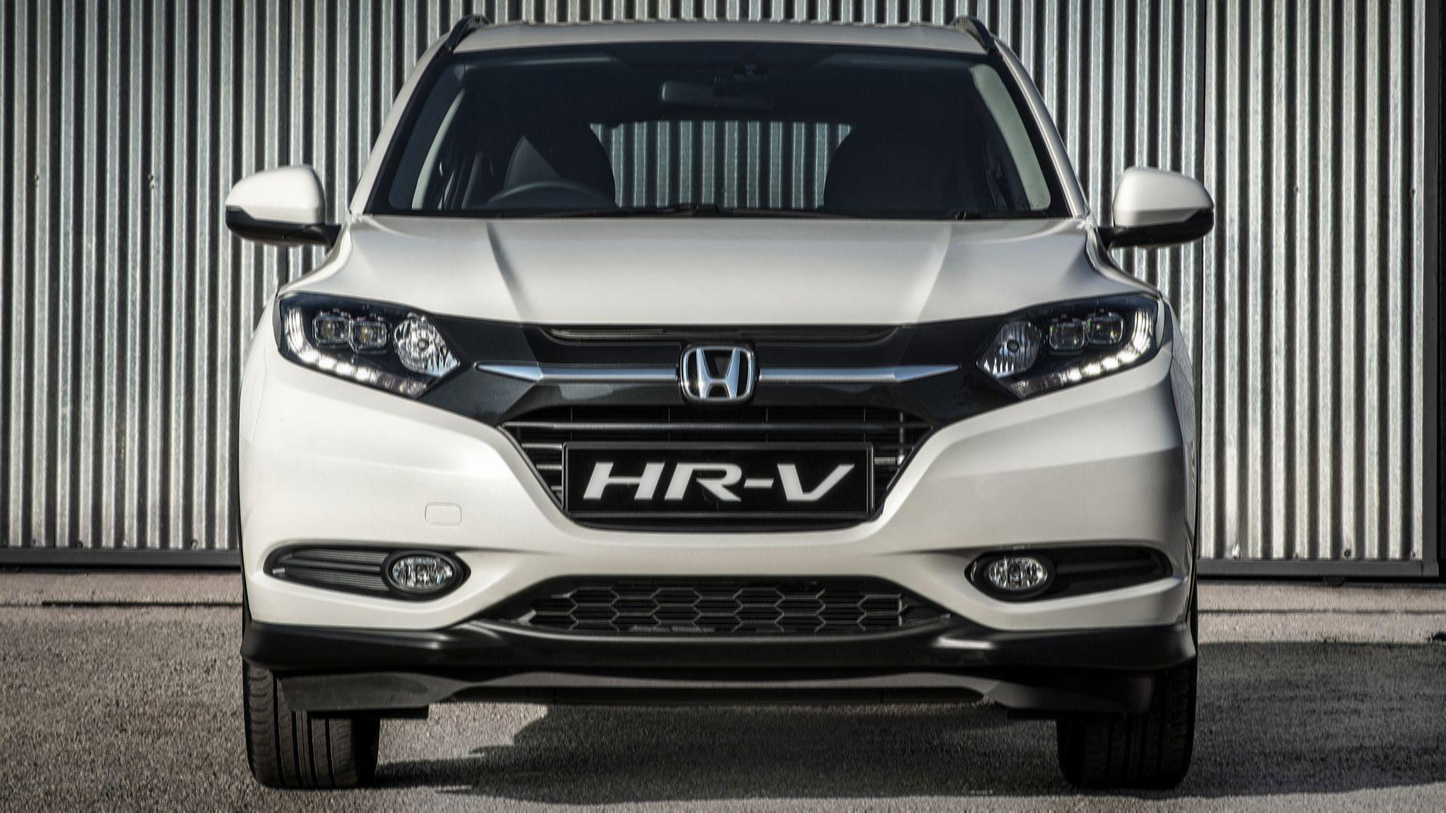Car hood: (266, 206, 1149, 341)
Front bumper: (234, 346, 1208, 718)
Headlight - -L-: (968, 290, 1170, 412)
Headlight - -R-: (275, 281, 457, 412)
Side mirror - -L-: (1090, 168, 1217, 251)
Side mirror - -R-: (221, 166, 348, 252)
